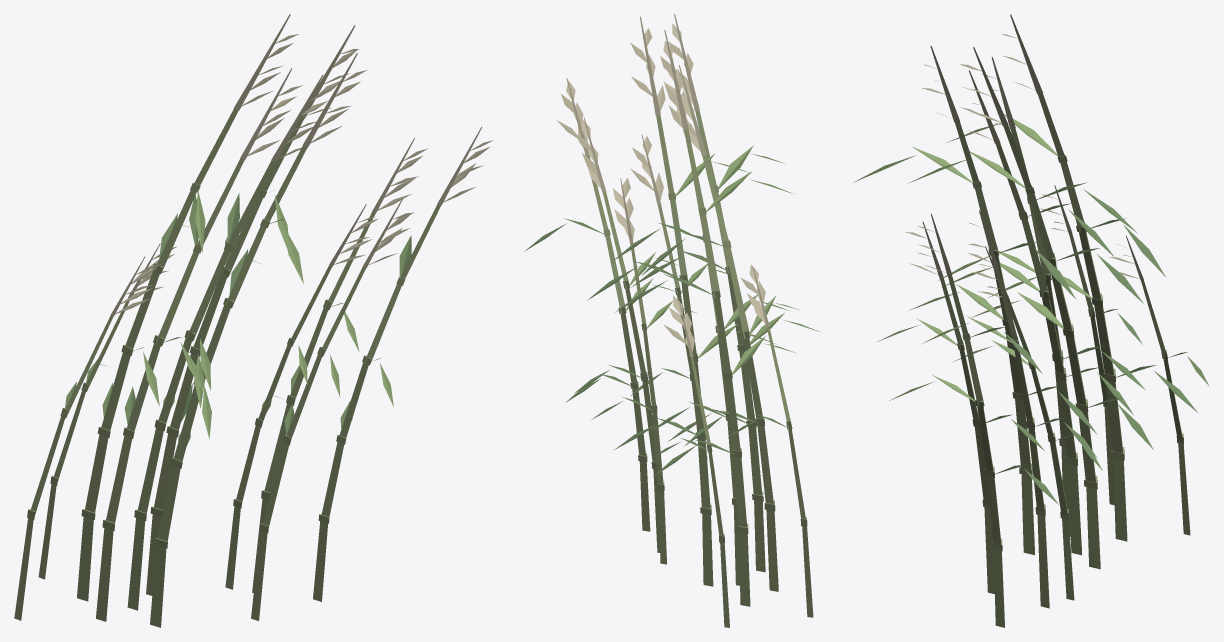
File: shui.luweidang@fruiting__summer.glb
3 views of the same model, side by side, from view 1: azimuth 30°, elevation 25°; view 2: azimuth 150°, elevation 25°; view 3: azimuth 270°, elevation 25° (orthographic). The views are drawn at different scales.
Parts seen in each view (by area): view 1: shui.luweidang@fruiting__summer; view 2: shui.luweidang@fruiting__summer; view 3: shui.luweidang@fruiting__summer.
Boxes of the visible parts, x1,y1,x2,y2 form: shui.luweidang@fruiting__summer: (14,14,493,627); shui.luweidang@fruiting__summer: (524,14,819,627); shui.luweidang@fruiting__summer: (854,14,1209,627).
Bounding box in the file's own units: 3 × 4.39 × 2.38.
